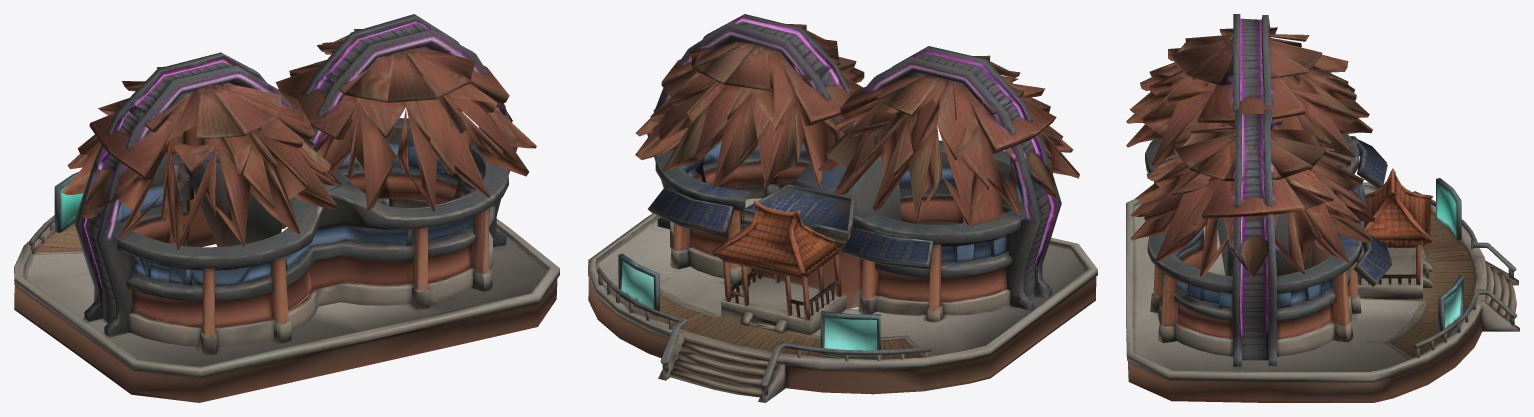
The model's file is lm_durian_domes.glb.
3 views of the same model, side by side, from view 1: azimuth 30°, elevation 25°; view 2: azimuth 150°, elevation 25°; view 3: azimuth 270°, elevation 25° (orthographic). The views are drawn at different scales.
Visible parts, largest first — view 1: Body; view 2: Body; view 3: Body.
Boxes of the visible parts, x1=… form: Body: x1=14, y1=14, x2=559, y2=402; Body: x1=588, y1=14, x2=1097, y2=402; Body: x1=1126, y1=14, x2=1519, y2=402.
Size of the model in its own units: 40 by 24.19 by 35.93.
Materials: 1 (1 with a texture image).
